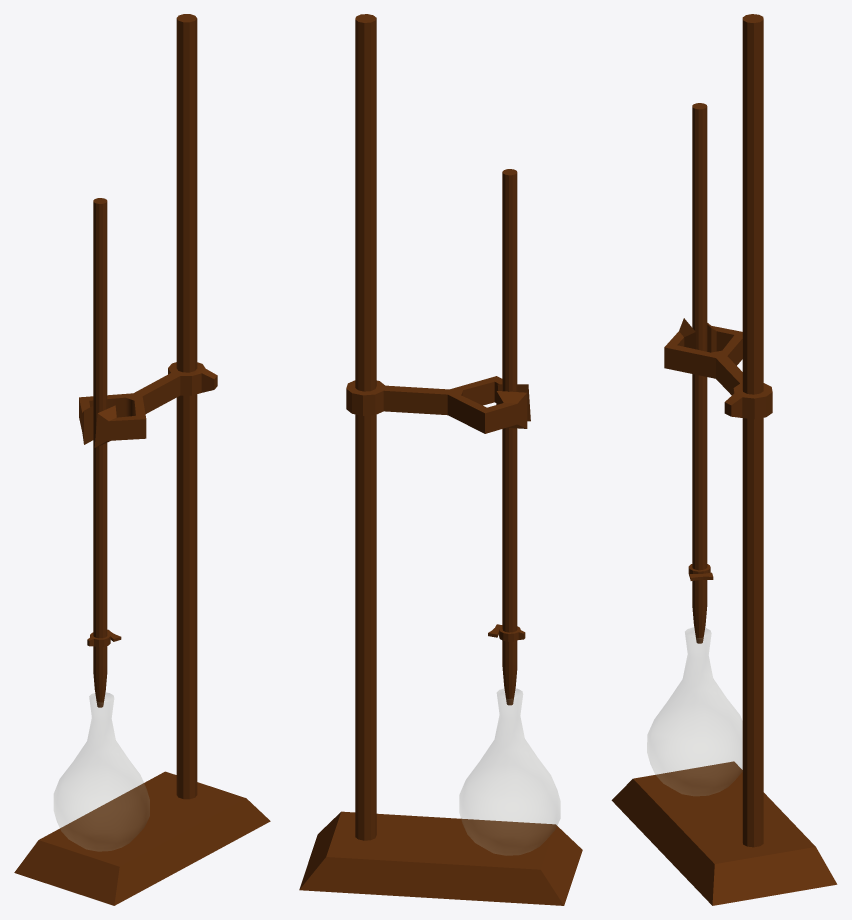
Rendered from lab_ap1.fbx.
3 views of the same model, side by side, from view 1: azimuth 30°, elevation 25°; view 2: azimuth 150°, elevation 25°; view 3: azimuth 270°, elevation 25° (orthographic). The views are drawn at different scales.
Visible parts, largest first — view 1: polySurface80, polySurface79; view 2: polySurface80, polySurface79; view 3: polySurface80, polySurface79.
Boxes of the visible parts, box(x1,y1,x2,y2) form: polySurface80: box(14, 14, 270, 905); polySurface79: box(54, 693, 149, 851); polySurface80: box(299, 14, 582, 905); polySurface79: box(459, 689, 560, 855); polySurface80: box(611, 14, 837, 905); polySurface79: box(647, 627, 742, 795).
Bounding box in the file's own units: 27.54 × 86.3 × 20.71.
